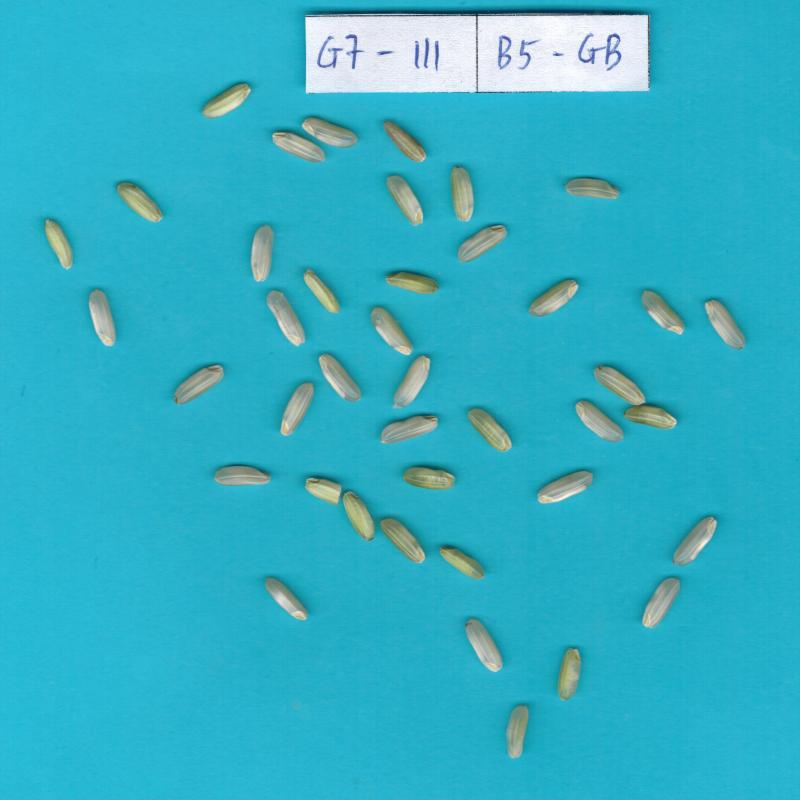Break: (305, 478, 342, 505)
Rice: (266, 290, 305, 347), (673, 517, 717, 566), (319, 354, 361, 402), (371, 307, 413, 355), (174, 365, 224, 405), (381, 518, 425, 563), (594, 367, 646, 405), (575, 401, 623, 442), (465, 619, 502, 672), (705, 300, 745, 349), (468, 408, 512, 452), (641, 290, 684, 335), (458, 225, 507, 263), (642, 578, 679, 628), (117, 183, 163, 223), (394, 356, 430, 407), (387, 175, 423, 226), (265, 578, 308, 620), (202, 83, 252, 119), (528, 280, 578, 316), (537, 471, 593, 503), (384, 121, 426, 163), (301, 117, 357, 148), (281, 383, 313, 436), (272, 132, 325, 163), (304, 269, 340, 314), (381, 416, 438, 444), (343, 491, 375, 540), (89, 289, 116, 346), (440, 546, 484, 579), (44, 219, 73, 269), (250, 225, 273, 282), (451, 167, 474, 222), (386, 271, 440, 294), (624, 406, 677, 429), (214, 465, 270, 486), (402, 467, 455, 489), (559, 648, 581, 700), (566, 178, 620, 199), (507, 705, 528, 759)
